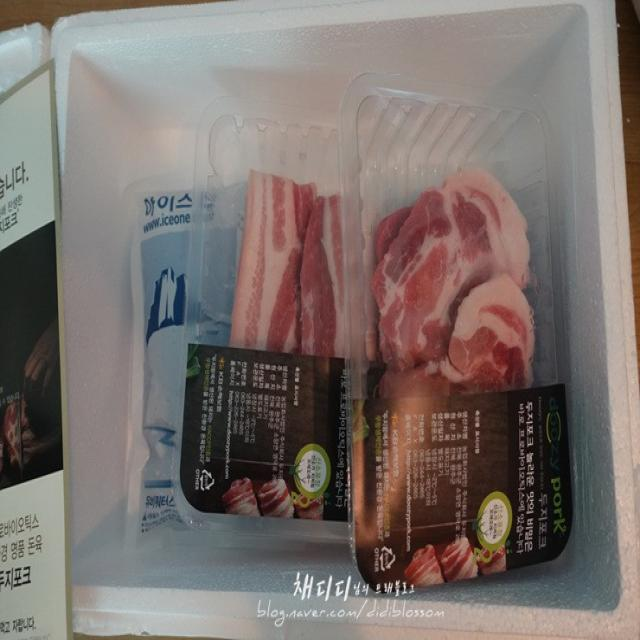pork: (190, 98, 570, 590)
